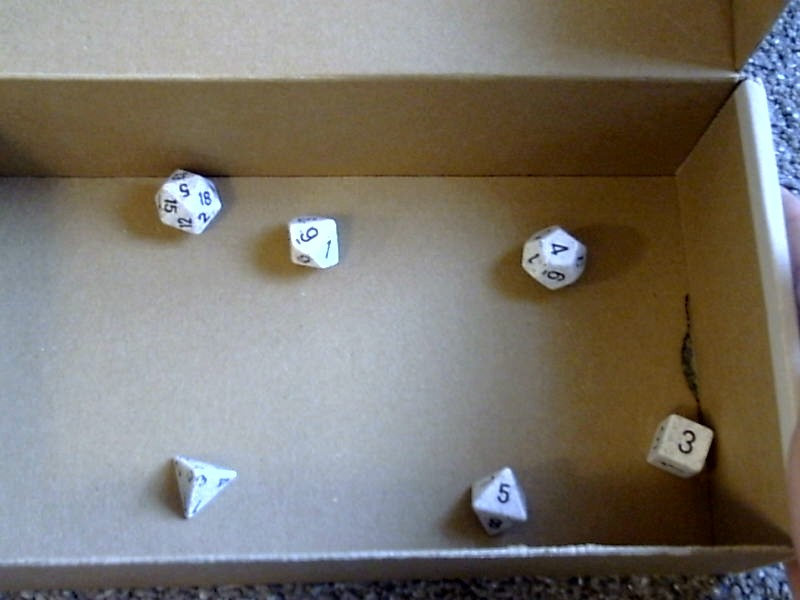d10 9: (280, 210, 345, 276)
d12 4: (514, 221, 588, 296)
d20 5: (148, 161, 225, 247)
d4 3: (165, 452, 238, 525)
d6 3: (641, 408, 716, 483)
d8 5: (466, 460, 536, 536)
